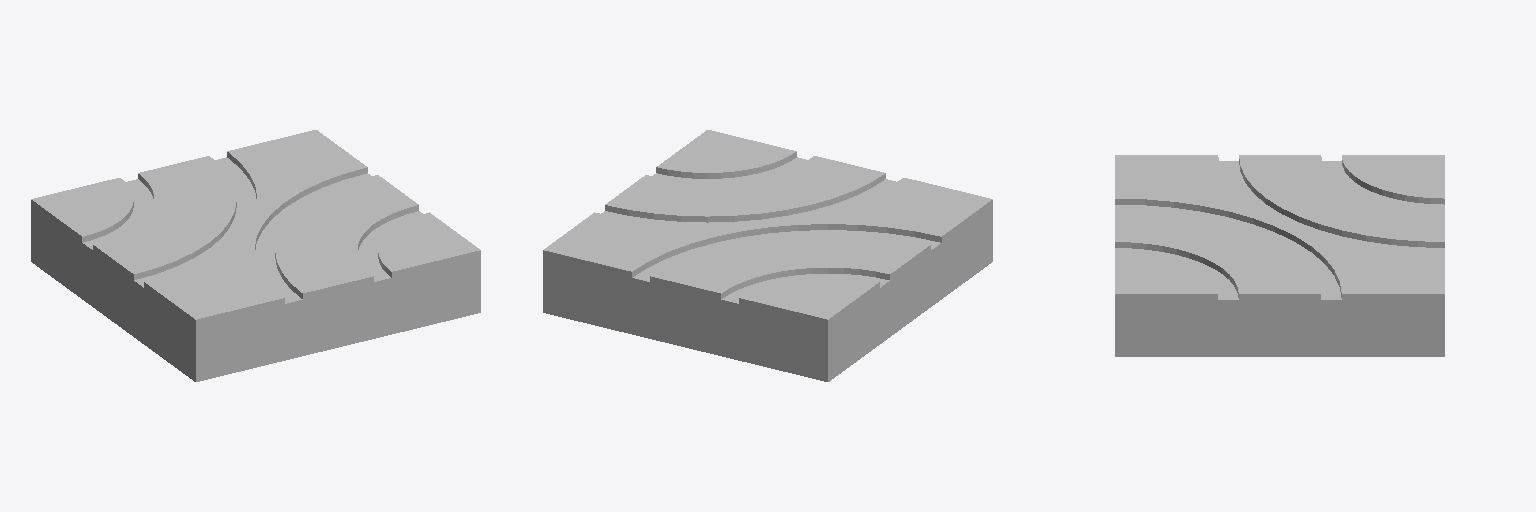
Rendered from tile258.obj.
3 views of the same model, side by side, from view 1: azimuth 30°, elevation 25°; view 2: azimuth 150°, elevation 25°; view 3: azimuth 270°, elevation 25° (orthographic).
Parts seen in each view (by area): view 1: tile258; view 2: tile258; view 3: tile258.
Part boxes in pixels (left/top/right/bottom): tile258: left=31, top=130, right=480, bottom=381; tile258: left=543, top=130, right=992, bottom=381; tile258: left=1115, top=155, right=1444, bottom=356.
Size of the model in its own units: 1 by 0.21 by 1.